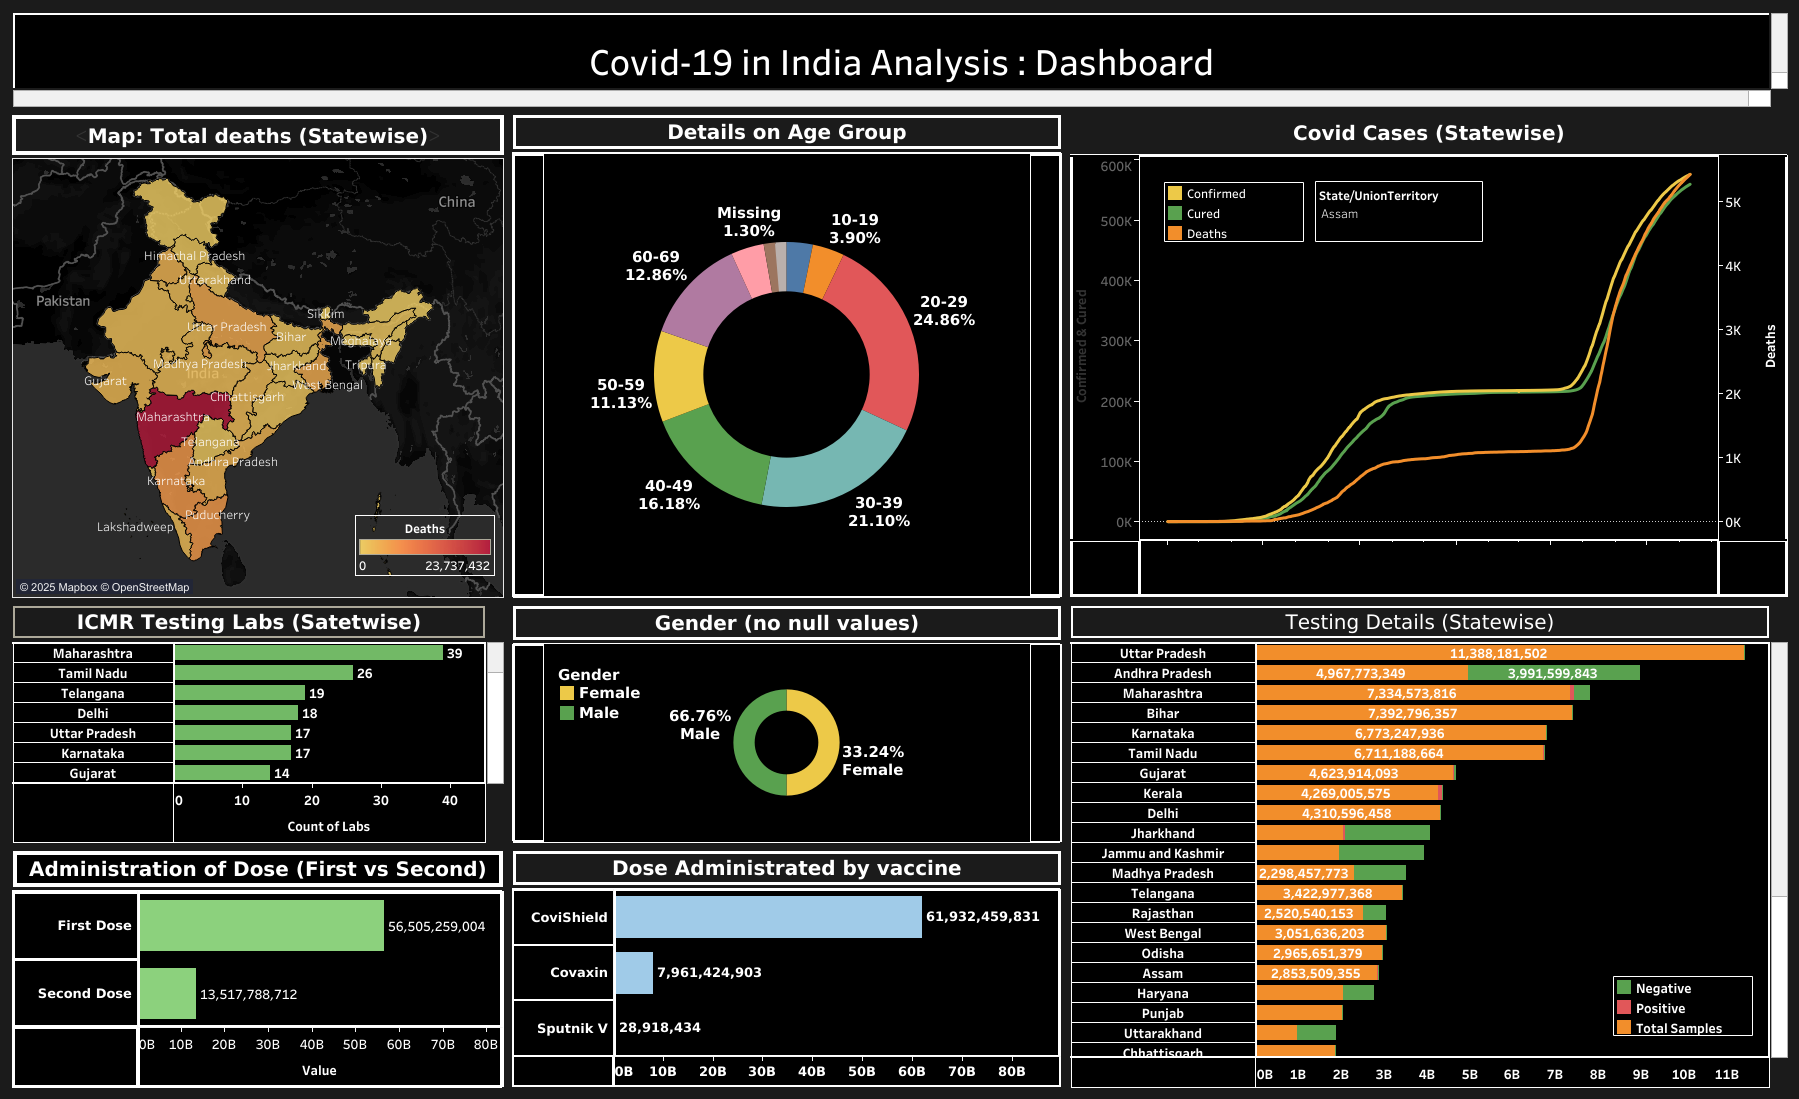

The page's visual inventory and layout, read from the dashboard file:
{"tool":"tableau","page":{"name":"Dashboard 1","canvas":[1800,1100],"ordinal":0},"visuals":[{"type":"worksheet","title":"Title","mark":"Automatic","box":[8,8,1784,103]},{"type":"worksheet","title":"Map: Total deaths (statewise)","mark":"Automatic","box":[8,111,500,490.5]},{"type":"worksheet","title":"Details on Age Group","mark":"Pie","rows":["Calculation_762234239170899969","Calculation_762234239171092483"],"box":[508,111,558,490.5]},{"type":"worksheet","title":"Covid Cases (Statewise)","mark":"Automatic","rows":["Deaths"],"cols":["Date"],"box":[1066,111,726,490.5]},{"type":"filter","title":"Covid Cases (Statewise)","param":"[federated.17ibxaf0cv76wd14tnd190h3zwyp].[none:State/UnionTerritory:nk]","box":[1315,181,168,61]},{"type":"legend","title":"Covid Cases (Statewise)","param":"[federated.17ibxaf0cv76wd14tnd190h3zwyp].[:Measure Names]","box":[1164,182,140,60]},{"type":"legend","title":"Map: Total deaths (statewise)","param":"[federated.17ibxaf0cv76wd14tnd190h3zwyp].[sum:Deaths:qk]","box":[355,515,140,76]},{"type":"worksheet","title":"ICMR Testing Labs (Satetwise)","mark":"Automatic","rows":["state"],"cols":["lab"],"box":[8,601.5,500,245.5]},{"type":"worksheet","title":"Gender (no null values)","mark":"Pie","rows":["Calculation_762234239175004165","Calculation_762234239175032839"],"box":[508,601.5,558,245.2]},{"type":"worksheet","title":"Testing Details (Statewise)","mark":"Automatic","rows":["State"],"box":[1066,601.5,726,490.5]},{"type":"legend","title":"Gender (no null values)","param":"[federated.02l5g3l0soa6r816lo5yj06tdmx0].[none:gender:nk]","box":[557,664,152,72]},{"type":"worksheet","title":"Dose Administrated by vaccine","mark":"Automatic","box":[508,846.8,558,245.2]},{"type":"worksheet","title":"Administration of Dose (First vs Second)","mark":"Automatic","box":[8,847,500,245]},{"type":"legend","title":"Testing Details (Statewise)","param":"[federated.0g5qvyy179icw011cduac17fufwi].[:Measure Names]","box":[1613,976,140,60]}]}

Visuals, with their boxes in screenshot pixels (x1, y1, x2, y2), scaled from the page's 1800x1100 canvas onto the 1799x1099 screenshot:
"Title" worksheet: region(8, 8, 1791, 111)
"Map: Total deaths (statewise)" worksheet: region(8, 111, 508, 601)
"Details on Age Group" worksheet (Pie marks): region(508, 111, 1065, 601)
"Covid Cases (Statewise)" worksheet: region(1065, 111, 1791, 601)
"Covid Cases (Statewise)" filter: region(1314, 181, 1482, 242)
"Covid Cases (Statewise)" legend: region(1163, 182, 1303, 242)
"Map: Total deaths (statewise)" legend: region(355, 515, 495, 590)
"ICMR Testing Labs (Satetwise)" worksheet: region(8, 601, 508, 846)
"Gender (no null values)" worksheet (Pie marks): region(508, 601, 1065, 846)
"Testing Details (Statewise)" worksheet: region(1065, 601, 1791, 1091)
"Gender (no null values)" legend: region(557, 663, 709, 735)
"Dose Administrated by vaccine" worksheet: region(508, 846, 1065, 1091)
"Administration of Dose (First vs Second)" worksheet: region(8, 846, 508, 1091)
"Testing Details (Statewise)" legend: region(1612, 975, 1752, 1035)
